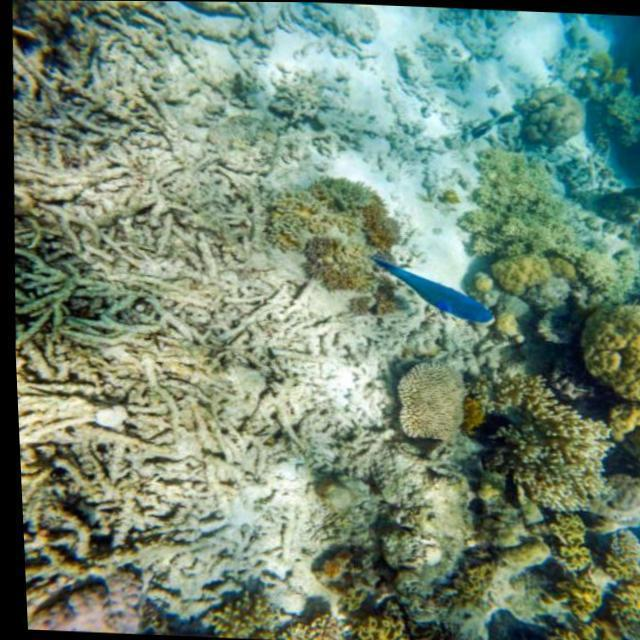Dead Coral: (0, 0, 308, 609)
